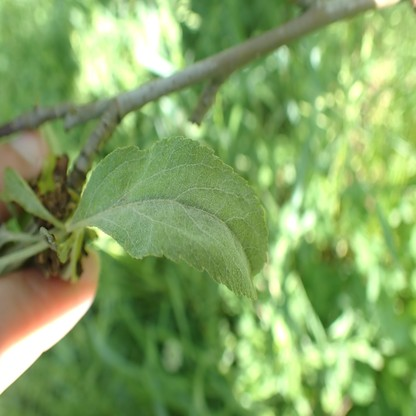powdery_mildew: (67, 135, 269, 299)
